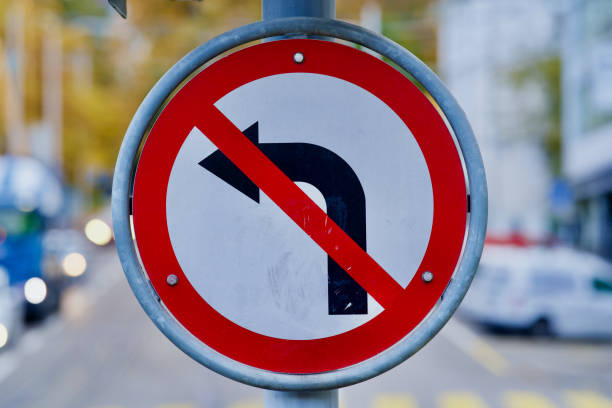sola_girilmez: (140, 39, 469, 364)
